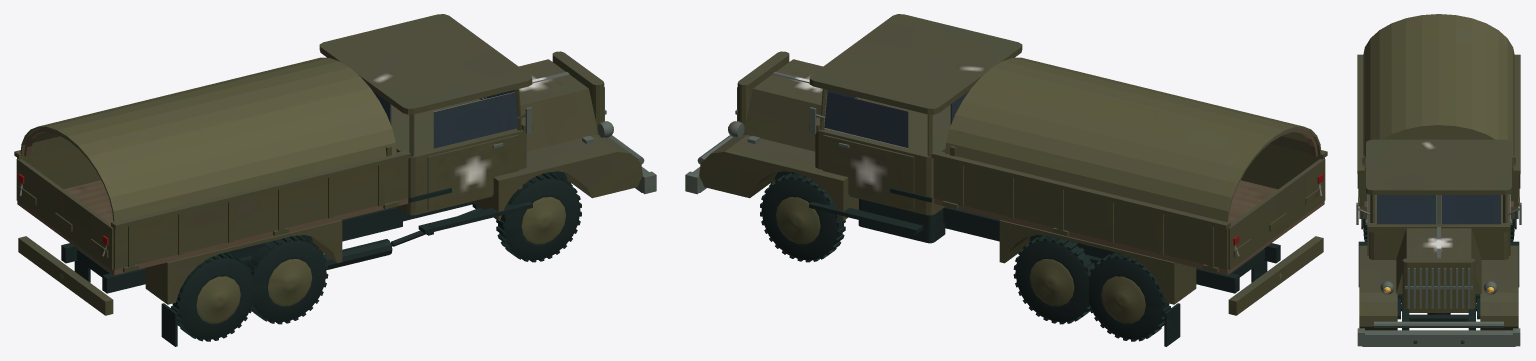
The model's file is gmc-cckw-353.glb.
3 renders of one model, left to right at view 1: azimuth 30°, elevation 25°; view 2: azimuth 150°, elevation 25°; view 3: azimuth 270°, elevation 25°, orthographic. The views are drawn at different scales.
Visible parts, largest first — view 1: Body, Frame, WheelR2R, WheelFR, WheelR1R, Nose; view 2: Body, Frame, WheelR2L, WheelFL, WheelR1L, Nose; view 3: Frame, Body, Nose.
Part boxes in pixels (left/top/right/bottom): Body: left=14, top=14, right=642, bottom=315; Frame: left=17, top=57, right=656, bottom=346; WheelR2R: left=247, top=235, right=328, bottom=324; WheelFR: left=496, top=172, right=581, bottom=262; WheelR1R: left=171, top=252, right=254, bottom=341; Nose: left=552, top=51, right=604, bottom=134; Body: left=699, top=14, right=1327, bottom=315; Frame: left=685, top=57, right=1324, bottom=346; WheelR2L: left=1013, top=235, right=1094, bottom=324; WheelFL: left=760, top=172, right=845, bottom=262; WheelR1L: left=1087, top=252, right=1170, bottom=341; Nose: left=737, top=51, right=789, bottom=134; Frame: left=1356, top=14, right=1521, bottom=346; Body: left=1357, top=54, right=1520, bottom=330; Nose: left=1402, top=258, right=1475, bottom=309.
Size of the model in its own units: 6.86 by 2.36 by 2.24.
Materials: 1 (1 with a texture image).
